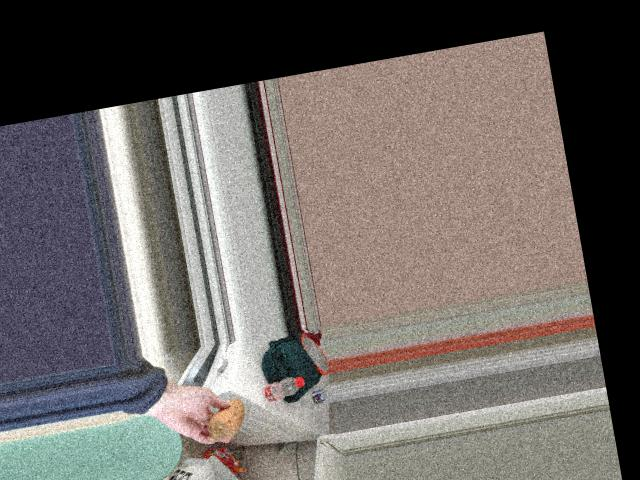sweet_potato: (197, 393, 248, 439)
